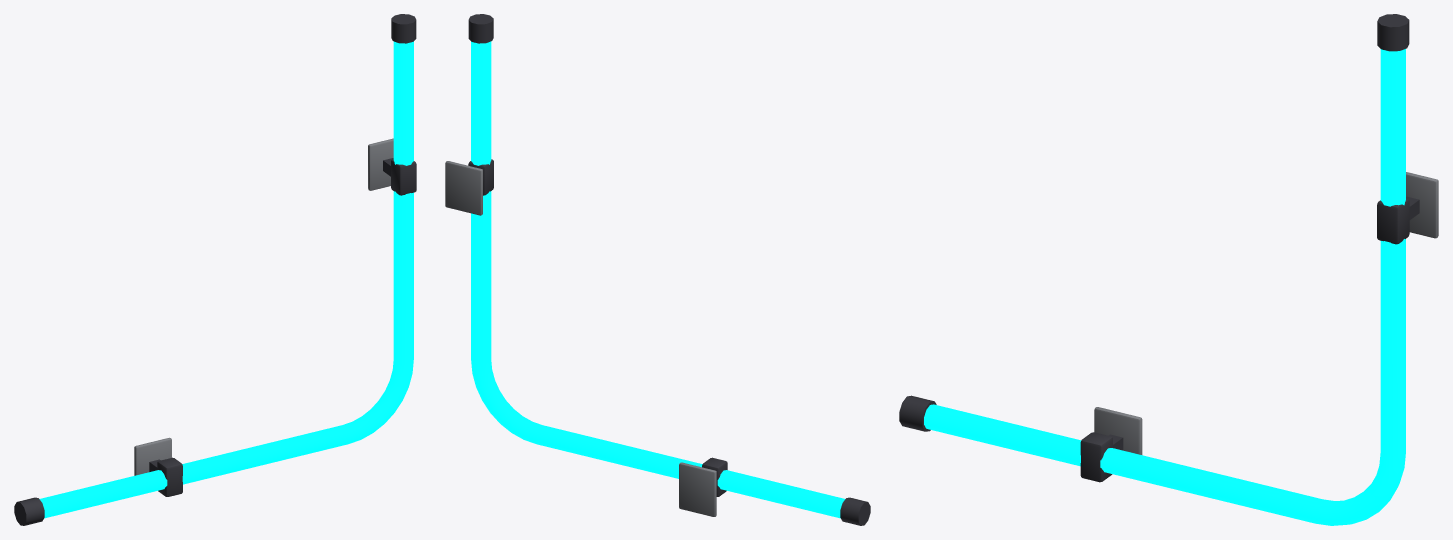
Rendered from KIT_Neon_Canto_Ciano.glb.
3 renders of one model, left to right at view 1: azimuth 30°, elevation 25°; view 2: azimuth 150°, elevation 25°; view 3: azimuth 330°, elevation 25°, orthographic. The views are drawn at different scales.
Visible parts, largest first — view 1: KIT_Neon_Canto_Ciano; view 2: KIT_Neon_Canto_Ciano; view 3: KIT_Neon_Canto_Ciano.
Boxes of the visible parts, box(x1,y1,x2,y2) form: KIT_Neon_Canto_Ciano: box(14, 14, 416, 525); KIT_Neon_Canto_Ciano: box(445, 14, 870, 525); KIT_Neon_Canto_Ciano: box(899, 14, 1438, 525).
Size of the model in its own units: 0.55 by 0.555 by 0.0573.
